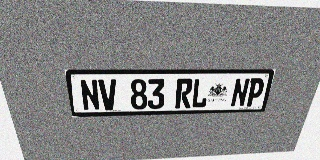3: (148, 79, 165, 109)
8: (130, 79, 147, 110)
L: (191, 78, 210, 108)
N: (79, 79, 100, 111), (230, 78, 250, 107)
P: (245, 78, 266, 107)
R: (175, 79, 193, 108)
V: (98, 79, 118, 110)
